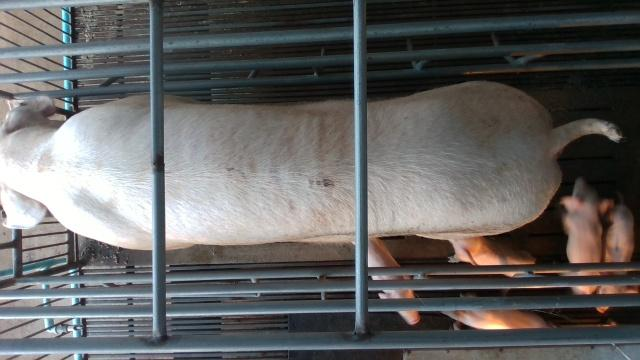piglet: (352, 238, 421, 326), (562, 179, 612, 296), (595, 202, 640, 313), (442, 295, 558, 329), (448, 238, 537, 278)
sow-stand-feed: (0, 81, 624, 252)
